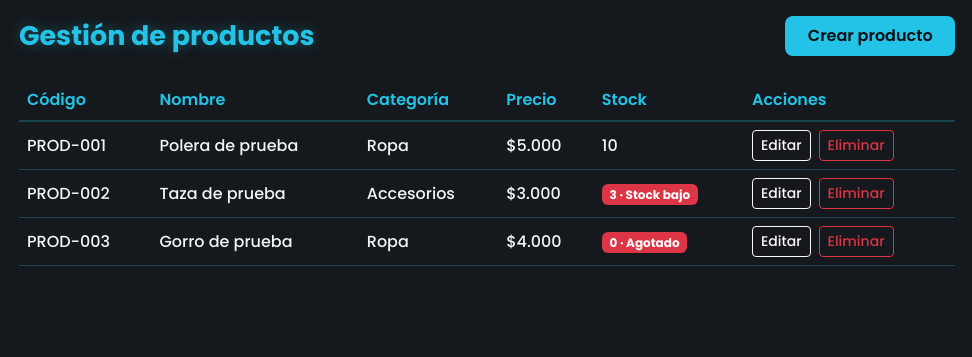
Test case: PanelProductos › muestra el mensaje de eliminación fallida para ERROR_DESCONOCIDO
This screenshot has width=972, height=357.
Click the button "Eliminar" in the row of "PROD-001" at (856, 146), box x1=819 y1=130 x2=894 y2=161
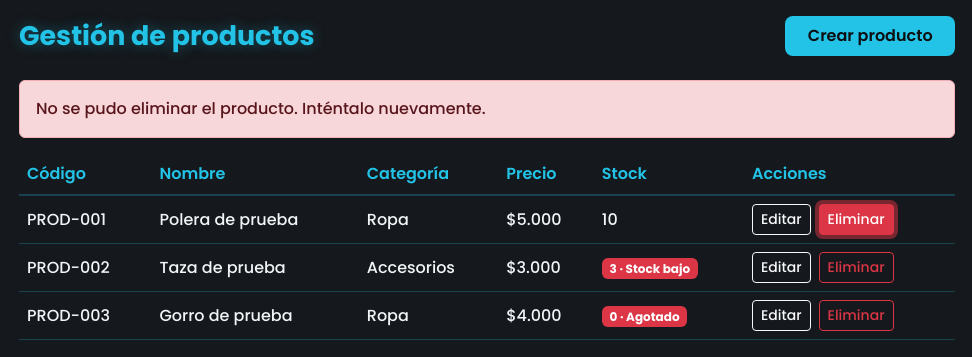
Expected: the text "Polera de prueba" is shown, x1=152 y1=195 x2=359 y2=244
Result: the message reads "No se pudo eliminar el producto. Inténtalo nuevamente." at x1=36 y1=97 x2=486 y2=120
